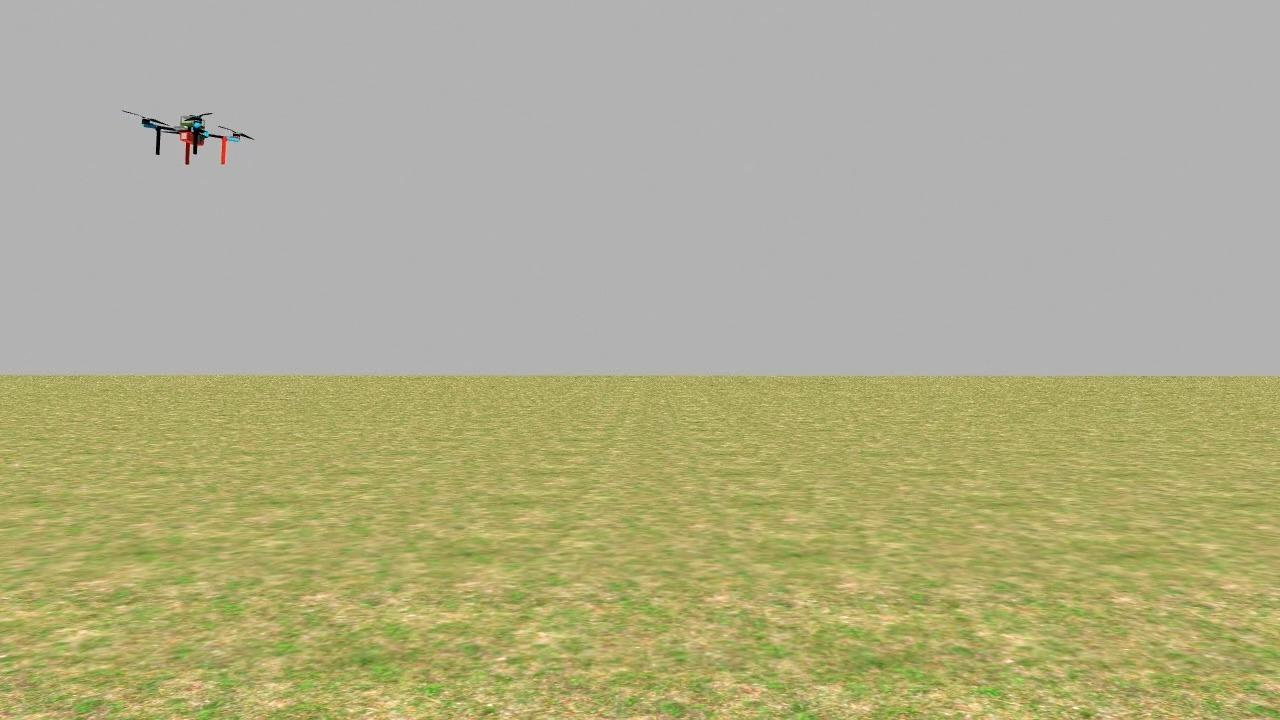UAV: (130, 90, 259, 188)
